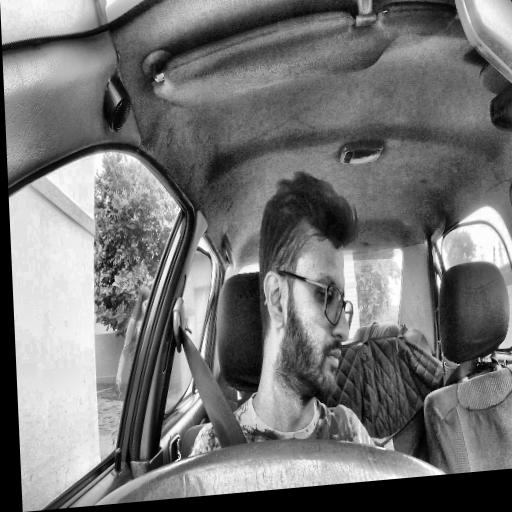awake: (254, 166, 364, 407)
